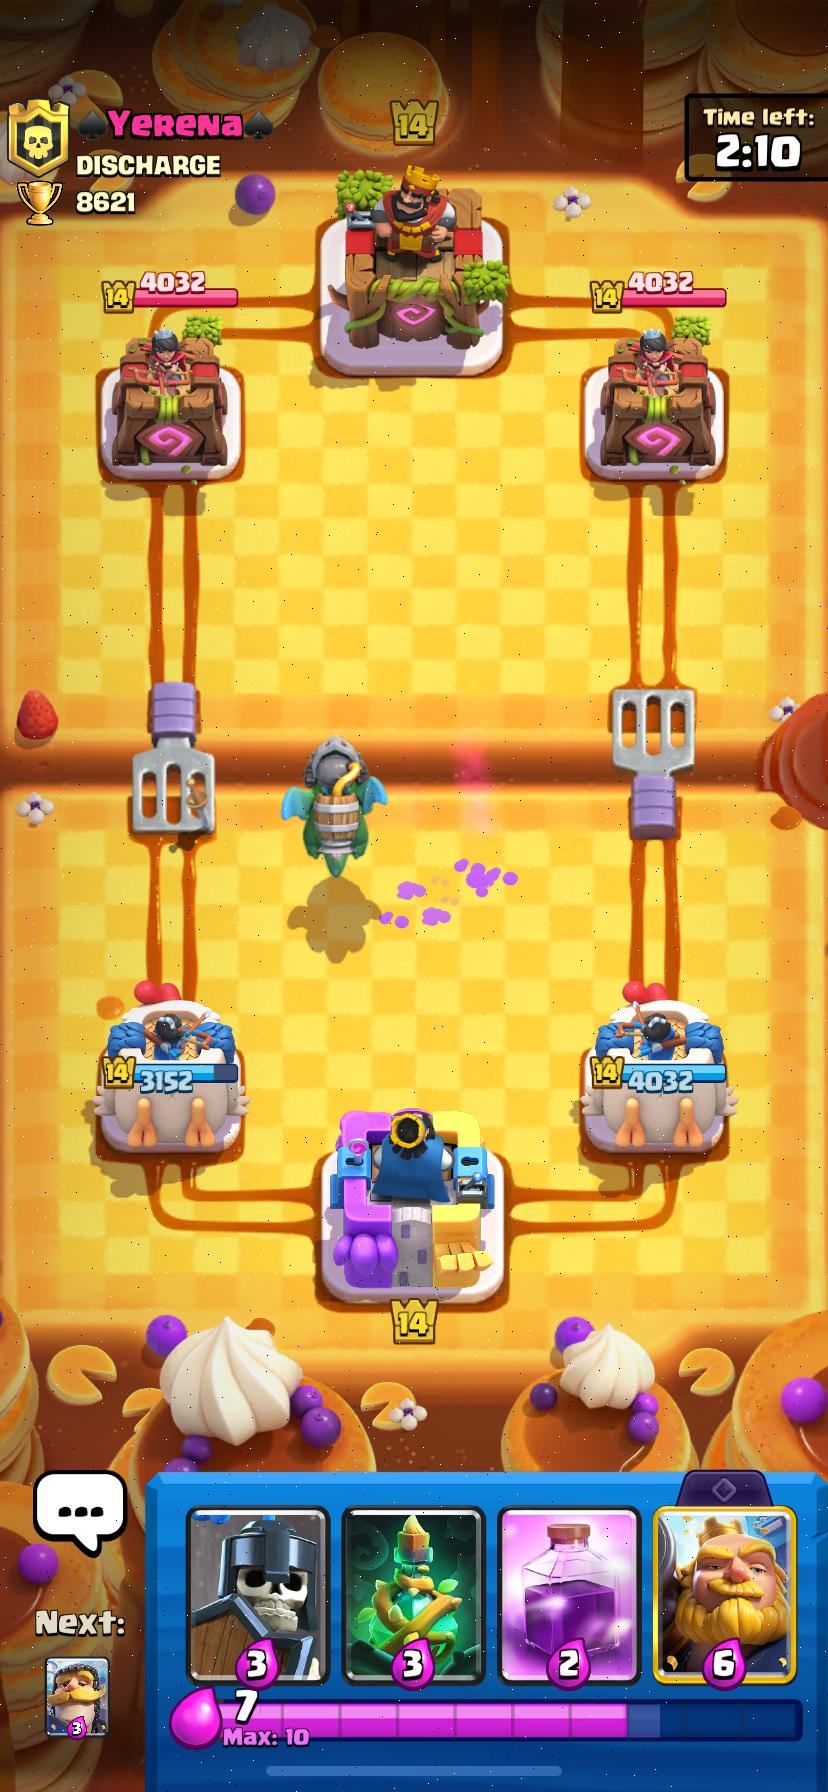EKingTower: (345, 167, 481, 349)
EnemyPrincessTower: (113, 328, 226, 472), (602, 329, 712, 466)
OInfernoDrag: (282, 736, 387, 877)
OwnKingTower: (321, 1109, 503, 1303)
OwnPrincessTower: (581, 982, 735, 1154), (93, 983, 248, 1151)
